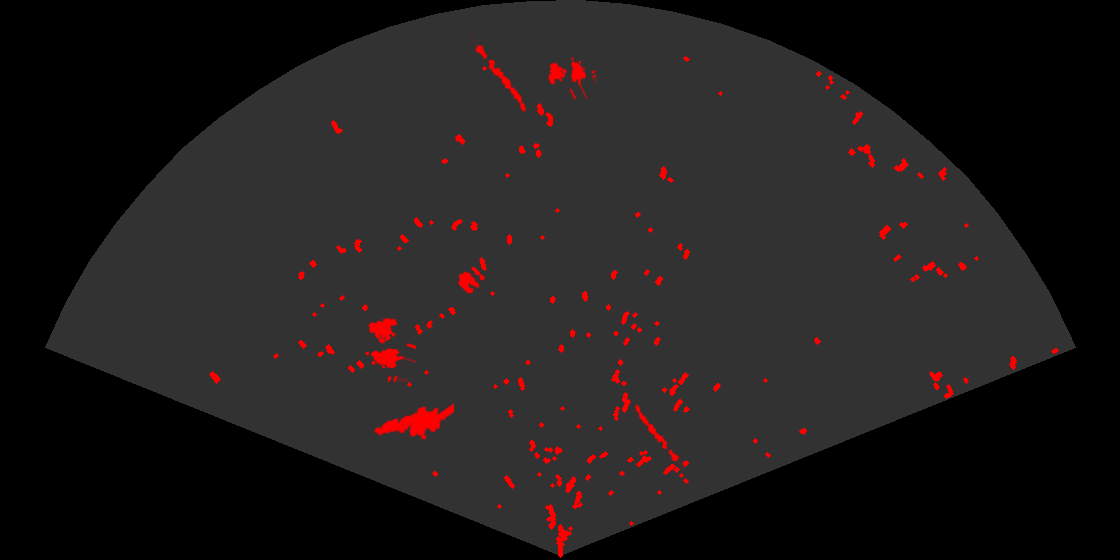ball: (456, 265, 487, 295)
cage: (363, 316, 416, 382), (546, 55, 596, 99)
chain: (468, 34, 528, 113), (631, 400, 684, 470)
frogman: (372, 401, 454, 441)
